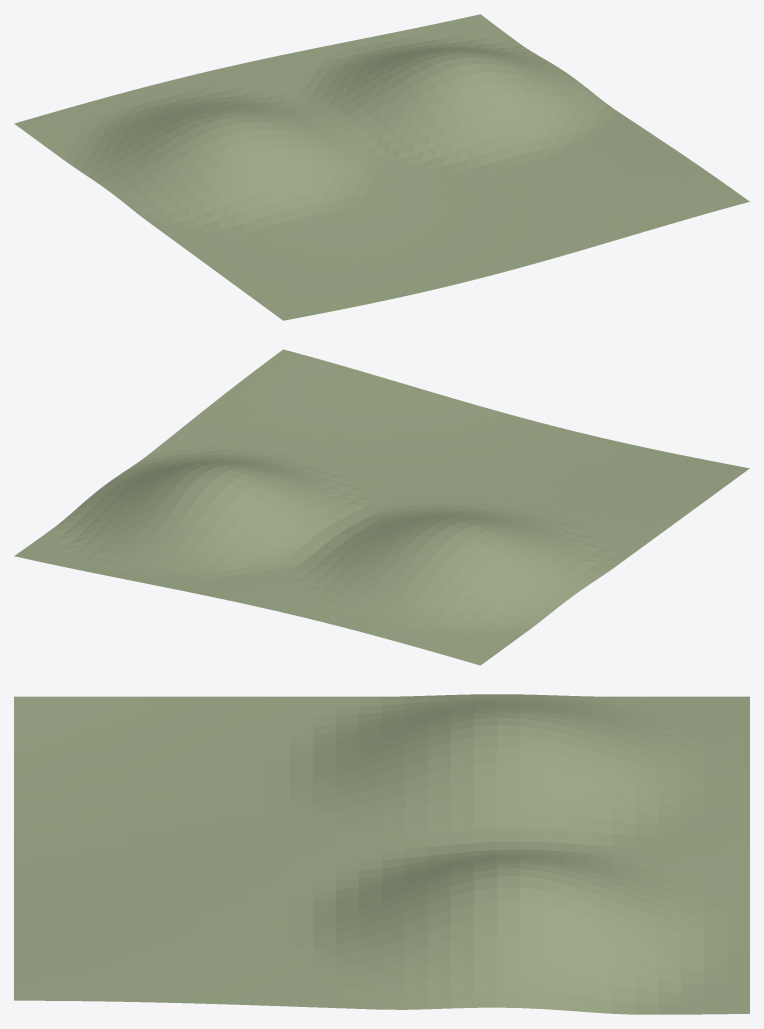
The model's file is coast-0-2.glb.
3 views of the same model, one above another, from view 1: azimuth 30°, elevation 25°; view 2: azimuth 150°, elevation 25°; view 3: azimuth 270°, elevation 25° (orthographic). The views are drawn at different scales.
Parts seen in each view (by area): view 1: coast-0-2; view 2: coast-0-2; view 3: coast-0-2.
Part boxes in pixels (x1,y1,x2,y2): coast-0-2: [14, 14, 749, 320]; coast-0-2: [14, 349, 749, 665]; coast-0-2: [14, 694, 749, 1014].
Size of the model in its own units: 256 by 23.66 by 256.
